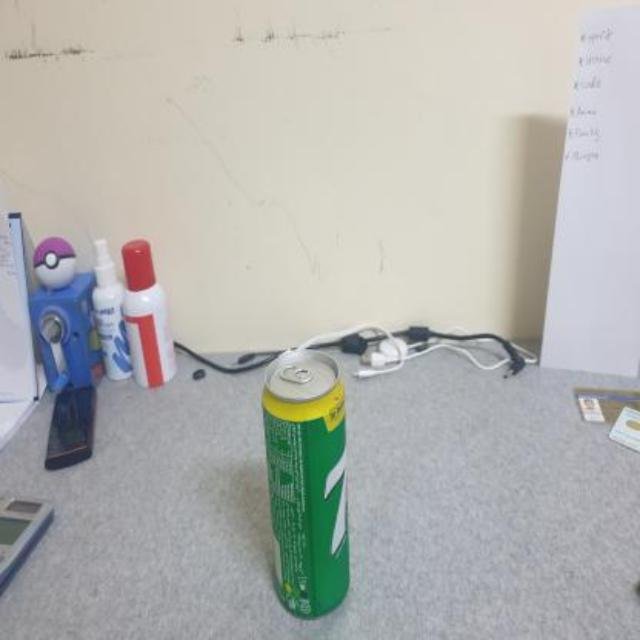metal: (262, 348, 348, 617)
